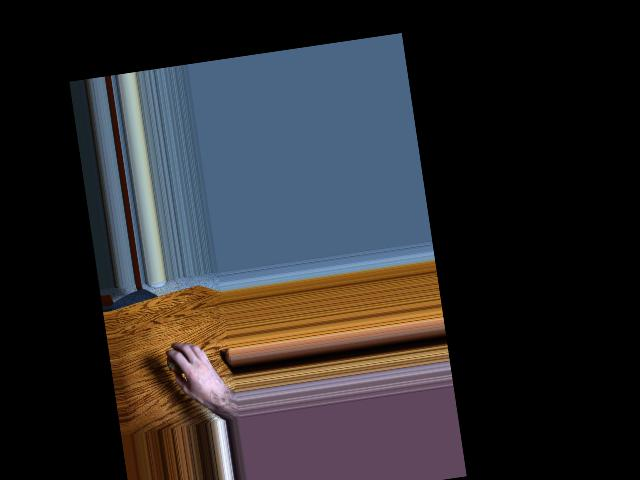onion: (164, 343, 193, 377)
